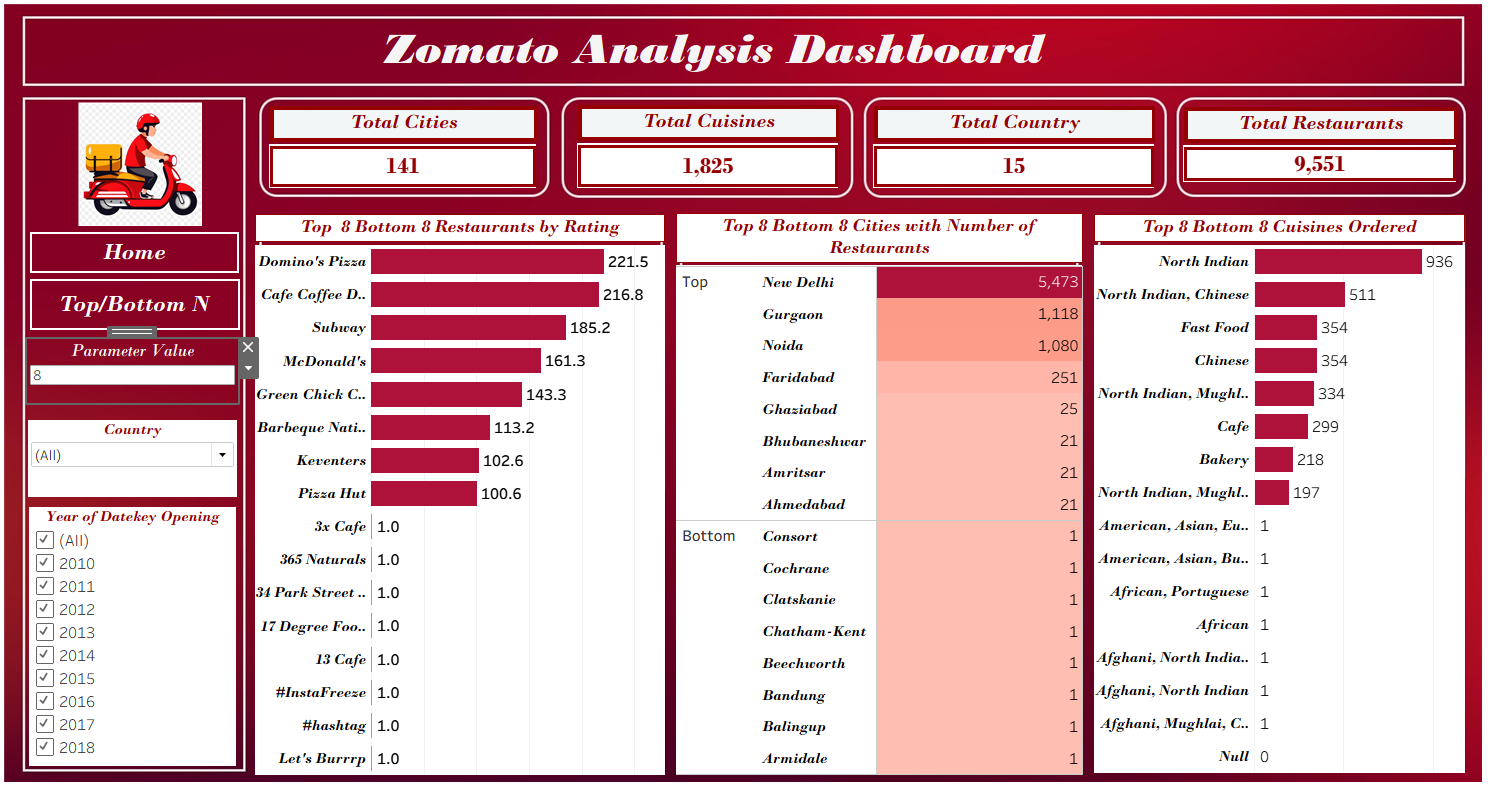

What the dashboard file says about the page in this screenshot:
{"tool":"tableau","page":{"name":"Dashboard 1","canvas":[1000,1000],"units":"permille","ordinal":1},"visuals":[{"type":"image","param":"Image/Slide1.jpg","box":[5.2,10,989.7,980]},{"type":"text","box":[249.7,38.6,498.7,66.1]},{"type":"image","param":"Image/cHJpdmF0ZS9sci9pbWFnZXMvd2Vic2l0ZS8yMDIzLTExL3Jhd3BpeGVsX29mZmljZV8yNV9zdG","box":[27.1,137.2,137.4,154.6]},{"type":"worksheet","title":"Total cuisines","mark":"Automatic","box":[377.4,140.9,169,103.5]},{"type":"worksheet","title":"Total Cities","mark":"Automatic","box":[178.7,142.1,172.9,102.2]},{"type":"worksheet","title":"Total country","mark":"Automatic","box":[568.4,142.1,181.9,102.2]},{"type":"worksheet","title":"Total Restaurants","mark":"Automatic","box":[768.4,143.4,176.8,93.5]},{"type":"image","param":"Image/cHJpdmF0ZS9sci9pbWFnZXMvd2Vic2l0ZS8yMDIzLTExL3Jhd3BpeGVsX29mZmljZV8yNV9zdG","box":[29.7,144.6,119.4,132.2]},{"type":"worksheet","title":"Sheet 15","mark":"Automatic","box":[753.6,258.1,16.8,15]},{"type":"worksheet","title":"Cities with number of Resturants","mark":"Square","rows":["City topn Set","City"],"box":[441.3,275.6,262.6,700.8]},{"type":"worksheet","title":"Resturants by rating","mark":"Automatic","rows":["RestaurantName"],"cols":["Rating"],"box":[169.7,276.8,264.5,699.5]},{"type":"worksheet","title":"cuisines ordered","mark":"Automatic","rows":["Cuisines"],"cols":["Cuisines"],"box":[711,276.8,239.3,697]},{"type":"worksheet","title":"Sheet 14","mark":"Automatic","box":[181.3,290.5,258.7,332.9]},{"type":"dashboard-object","box":[24.5,299.2,134.8,51.1]},{"type":"dashboard-object","box":[24.5,357.9,135.5,63.6]},{"type":"parameter","param":"[Parameters].[Parameter 1]","box":[22.6,432.7,136.1,79.8]},{"type":"filter","title":"Sheet 14","param":"[federated.1t48gqt0yr0rq714g5i7c0ca5y6u].[none:Country:nk]","box":[23.2,533.7,134.8,96]},{"type":"filter","title":"Sheet 15","param":"[federated.1t48gqt0yr0rq714g5i7c0ca5y6u].[yr:Datekey_Opening:ok]","box":[23.9,642.1,133.6,322.9]}]}

Visuals, with their boxes on the dashboard's canvas, which has no fixed pixel size, in thousandths of its width and height (x1, y1, x2, y2). These are canvas units, not pixel positions in the 1493x793 screenshot, which may show the page scaled, cropped or inside an application window:
image: bbox=(5, 10, 995, 990)
text: bbox=(250, 39, 748, 105)
image: bbox=(27, 137, 164, 292)
"Total cuisines" worksheet: bbox=(377, 141, 546, 244)
"Total Cities" worksheet: bbox=(179, 142, 352, 244)
"Total country" worksheet: bbox=(568, 142, 750, 244)
"Total Restaurants" worksheet: bbox=(768, 143, 945, 237)
image: bbox=(30, 145, 149, 277)
"Sheet 15" worksheet: bbox=(754, 258, 770, 273)
"Cities with number of Resturants" worksheet (Square marks): bbox=(441, 276, 704, 976)
"Resturants by rating" worksheet: bbox=(170, 277, 434, 976)
"cuisines ordered" worksheet: bbox=(711, 277, 950, 974)
"Sheet 14" worksheet: bbox=(181, 290, 440, 623)
dashboard-object: bbox=(24, 299, 159, 350)
dashboard-object: bbox=(24, 358, 160, 422)
parameter: bbox=(23, 433, 159, 512)
"Sheet 14" filter: bbox=(23, 534, 158, 630)
"Sheet 15" filter: bbox=(24, 642, 158, 965)
